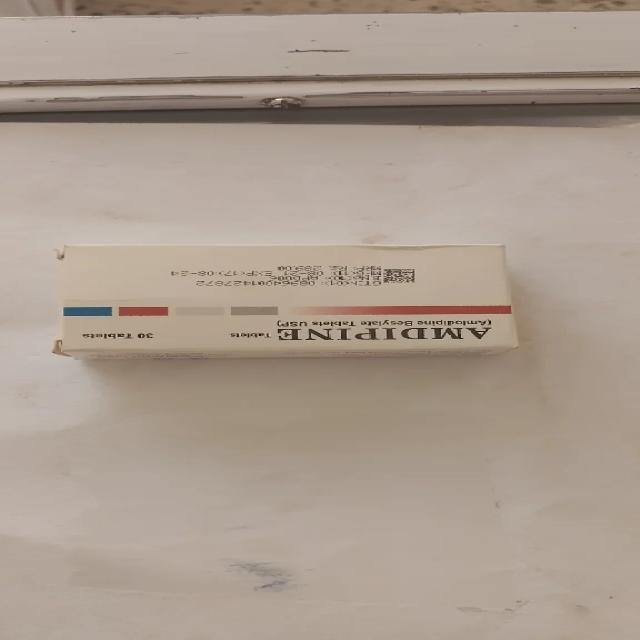drug-name: (272, 328, 491, 342)
